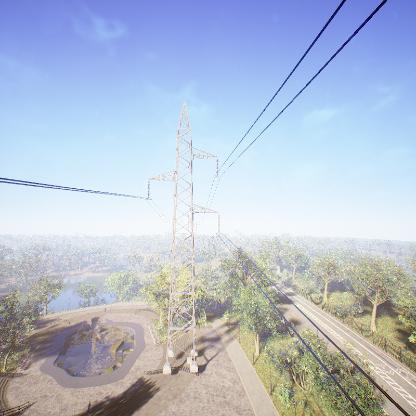tower: (140, 97, 223, 378)
